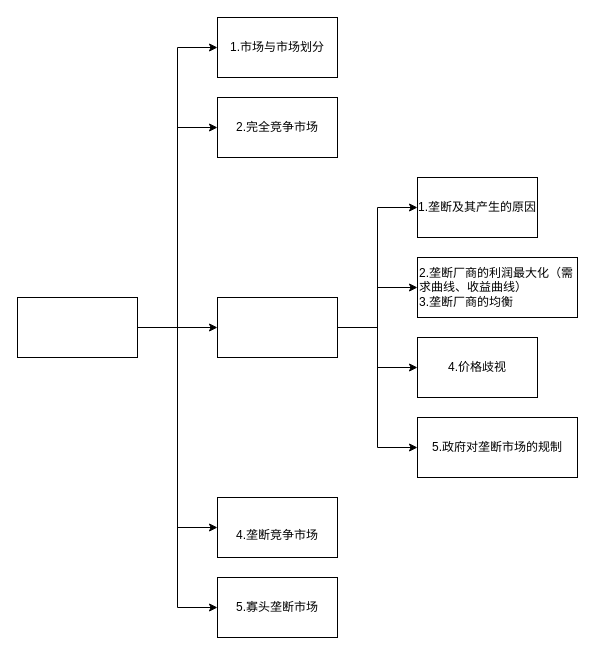
The diagram is 595 pixels wide and 655 high, and some of its shapes have lost their labels. Here are the shapes that lost their labels. From the top down, the centre of each, then its label:
(x=77, y=327): 市场结构理论
(x=277, y=327): 3.完全垄断市场
